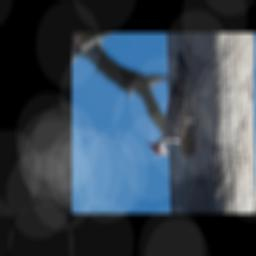Woodpecker: (146, 49, 205, 159)
